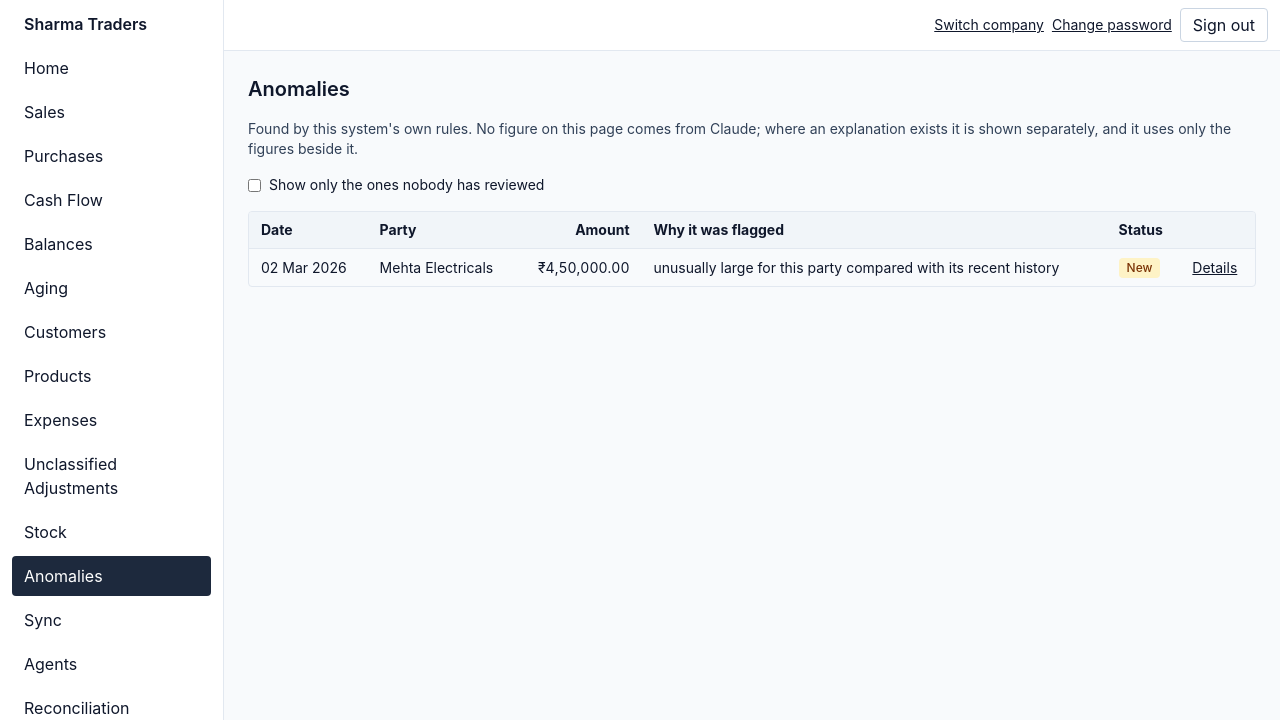
Test case: the Anomalies section (SRS 12) › says why an explanation is missing, and still shows the evidence (AC-58)
What coordinates should you click on to do the following:
click the button "Details"
I would click on:
 (1215, 268)
Its box is [1192,258,1237,278].
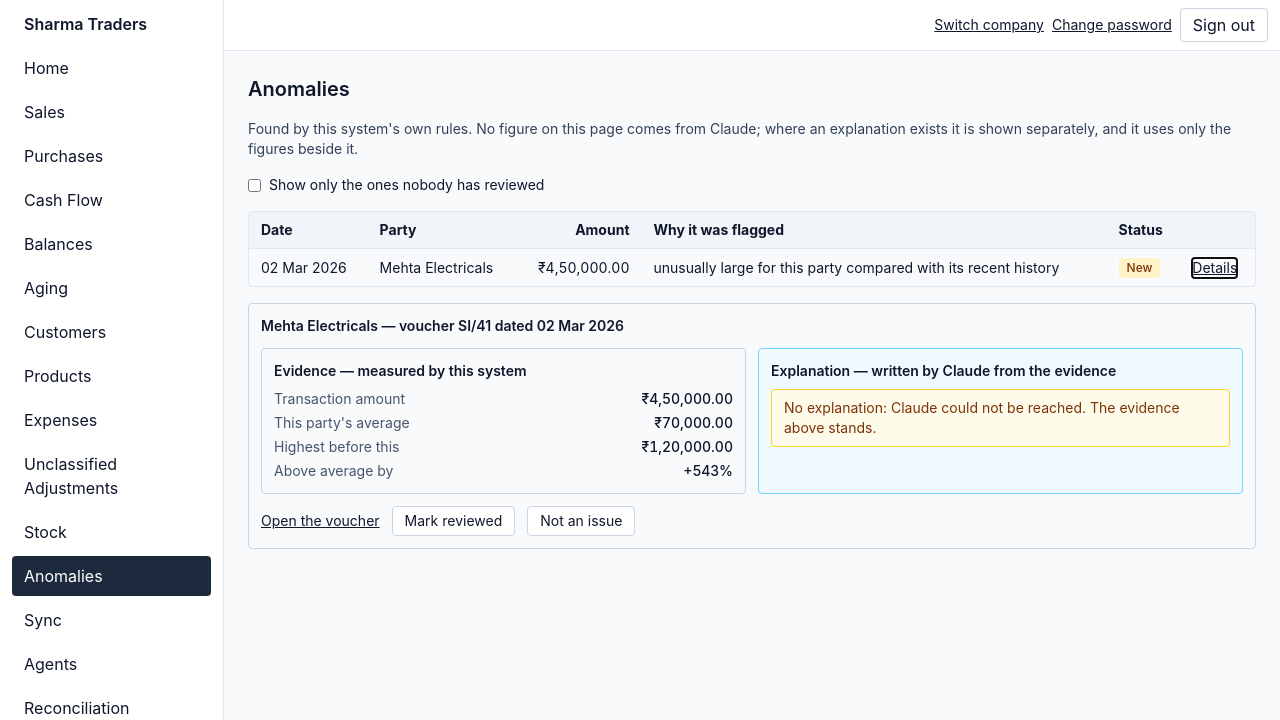
Expected: the element "Evidence" shows "₹4,50,000.00", [641,390,733,407]
Expected: the element "Explanation" shows "could not be reached", [784,399,1180,436]
